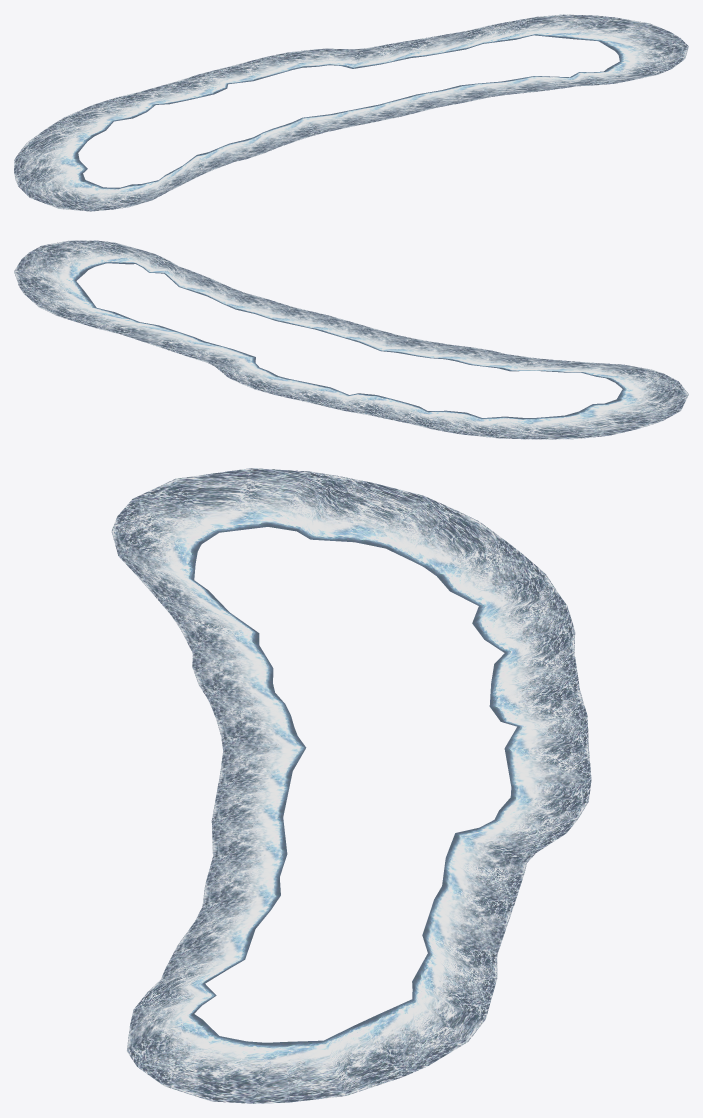
File: island_08_coast.fbx
3 renders of one model, top to bottom at view 1: azimuth 30°, elevation 25°; view 2: azimuth 150°, elevation 25°; view 3: azimuth 270°, elevation 25°, orthographic. The views are drawn at different scales.
Visible parts, largest first — view 1: island08high:island_08_coast; view 2: island08high:island_08_coast; view 3: island08high:island_08_coast.
Boxes of the visible parts, x1=… form: island08high:island_08_coast: x1=14, y1=14, x2=688, y2=211; island08high:island_08_coast: x1=14, y1=240, x2=688, y2=439; island08high:island_08_coast: x1=111, y1=468, x2=591, y2=1103.
Size of the model in its own units: 0.7001 by 0.00149 by 0.2235.
1 material, 1 textured.
